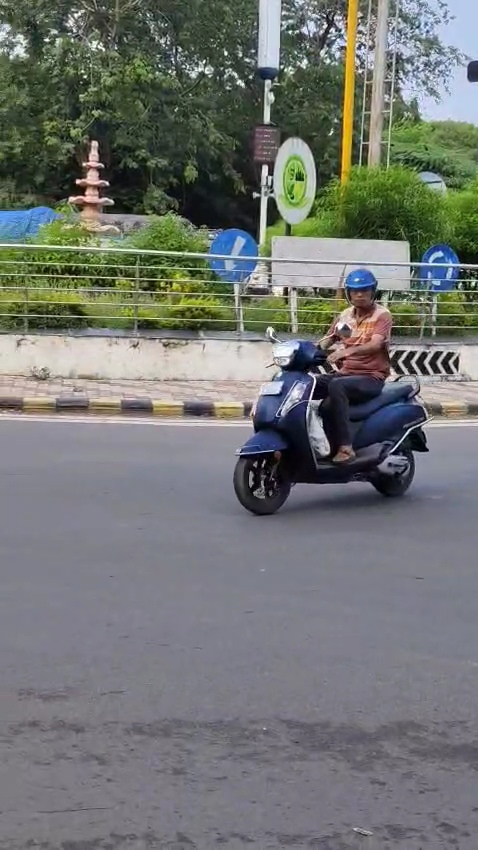BikeWithRider: (224, 262, 438, 521)
Helmet: (337, 264, 384, 312)
